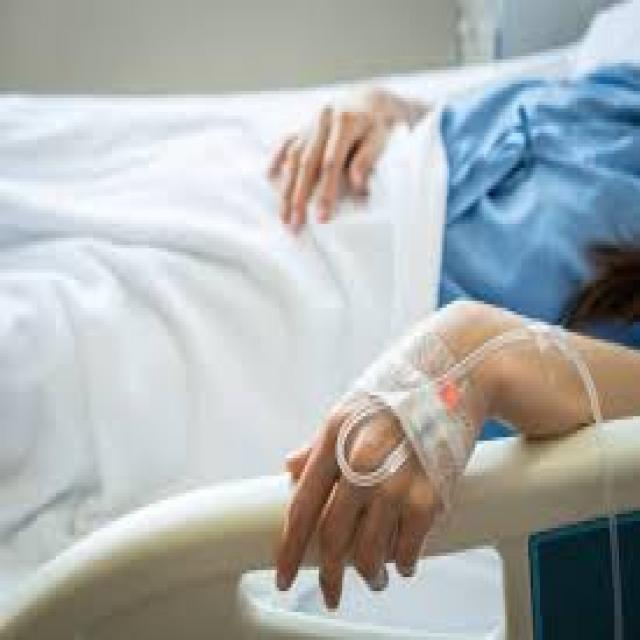iv_fluids: (356, 340, 612, 547)
